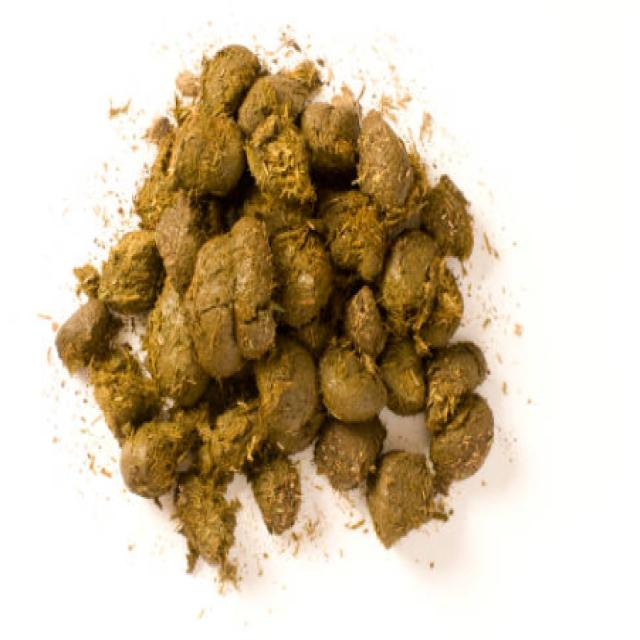paper: (43, 28, 524, 576), (171, 232, 292, 384), (369, 438, 447, 550)
